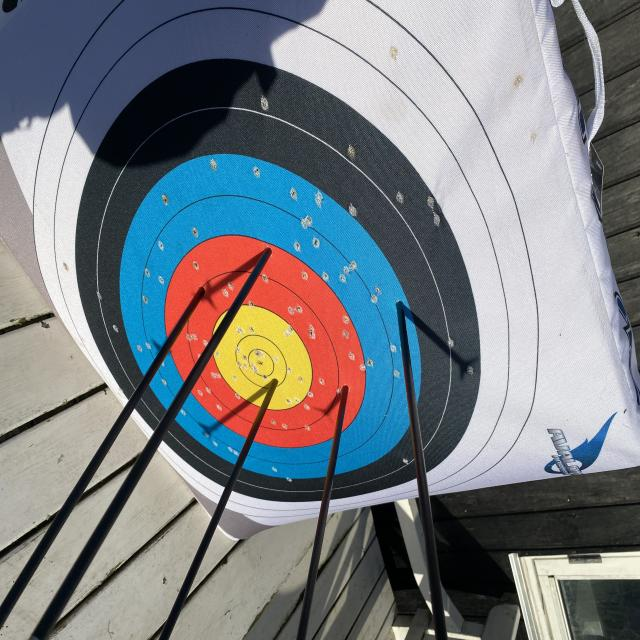Arrow_Blue: (379, 280, 419, 334)
Arrow_Red: (180, 270, 228, 329), (330, 370, 365, 426), (248, 237, 289, 284)
Arrow_Yellow: (254, 360, 296, 409)
